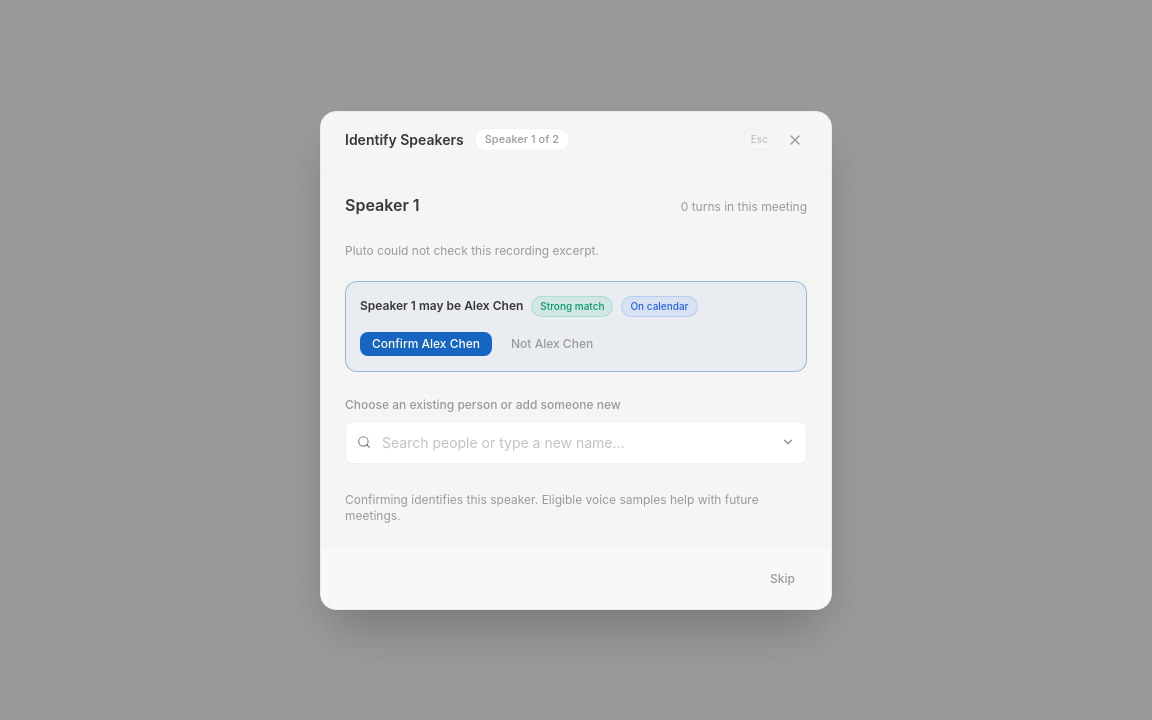
Test case: SpeakerIdentificationModal voice profile suggestions and enrollment › keeps the next speaker selected after confirming a suggestion opened on a specific speaker
The image size is (1152, 720).
Click the button "Confirm Alex Chen". click: (426, 344)
box: x1=360 y1=332 x2=492 y2=356
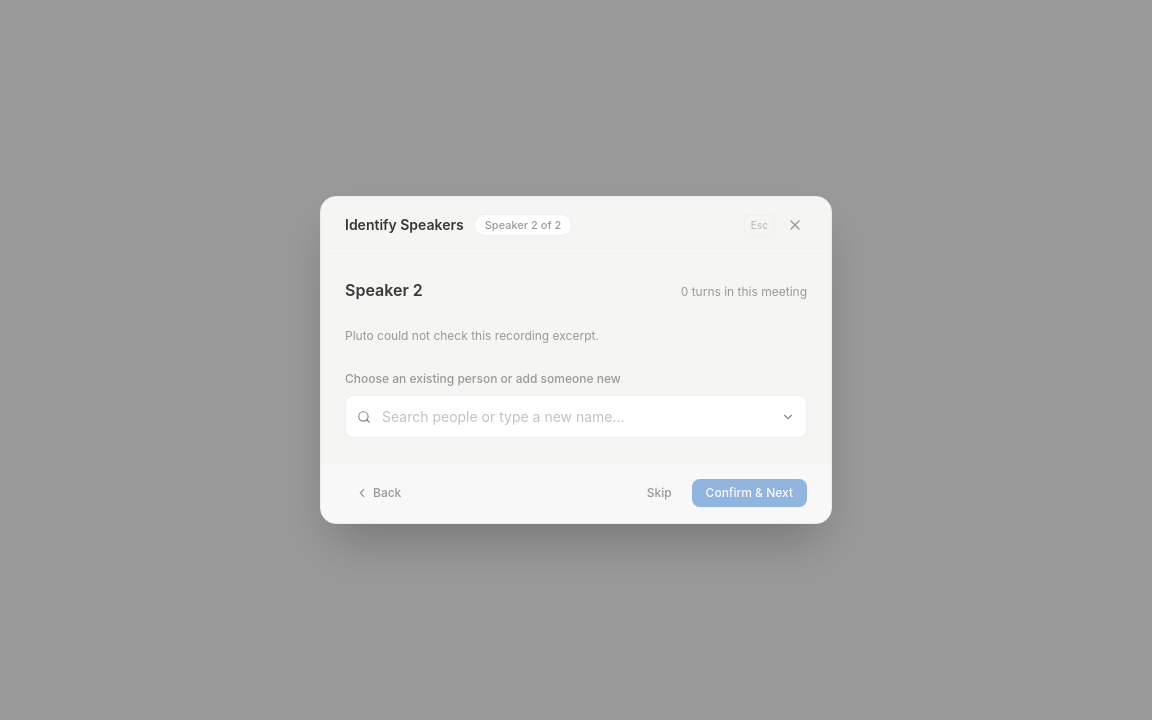
Result: the text "Speaker 2 of 2" is shown at x1=474 y1=214 x2=572 y2=236
Result: the text "Confirm Alex Chen" is gone
